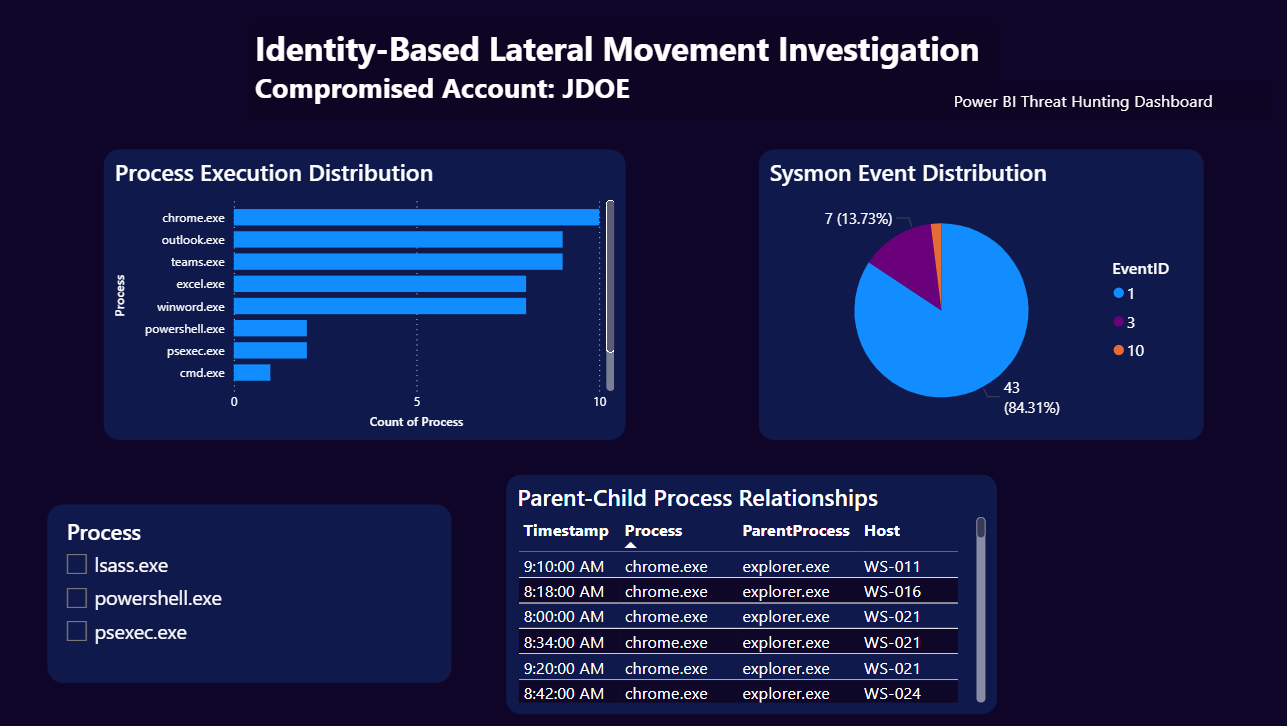

The page's visual inventory and layout, read from the dashboard file:
{"tool":"powerbi","page":{"name":"Endpoint Analysis","canvas":[1280,720],"ordinal":2},"visuals":[{"type":"clusteredBarChart","title":"Process Execution Distribution","fields":{"Category":["SysmonLogs.Process"],"Y":["CountNonNull(SysmonLogs.Process)"]},"box":[111.1,149.6,510.5,284],"z":0},{"type":"tableEx","title":"Parent-Child Process Relationships","fields":{"Values":["SysmonLogs.Timestamp","SysmonLogs.Process","SysmonLogs.ParentProcess","SysmonLogs.Host"]},"box":[505,466.6,480.3,234.6],"z":1000},{"type":"slicer","fields":{"Values":["SysmonLogs.Process"]},"box":[56.3,496.7,395.2,174.3],"z":2000},{"type":"pieChart","title":"Sysmon Event Distribution","fields":{"Category":["SysmonLogs.EventID"],"Y":["CountNonNull(SysmonLogs.EventID)"]},"box":[752,149.6,435,284],"z":3000},{"type":"textbox","box":[254.3,23.2,731.3,99],"z":4000},{"type":"textbox","box":[937.9,85.6,315.5,36.7],"z":5000}]}

Visuals, with their boxes in screenshot pixels (x1, y1, x2, y2), scaled from the page's 1280x720 canvas onto the 1287x726 screenshot:
"Process Execution Distribution" clusteredBarChart: left=112, top=151, right=625, bottom=437
"Parent-Child Process Relationships" tableEx: left=508, top=470, right=991, bottom=707
slicer - SysmonLogs.Process: left=57, top=501, right=454, bottom=677
"Sysmon Event Distribution" pieChart: left=756, top=151, right=1193, bottom=437
textbox: left=256, top=23, right=991, bottom=123
textbox: left=943, top=86, right=1260, bottom=123
